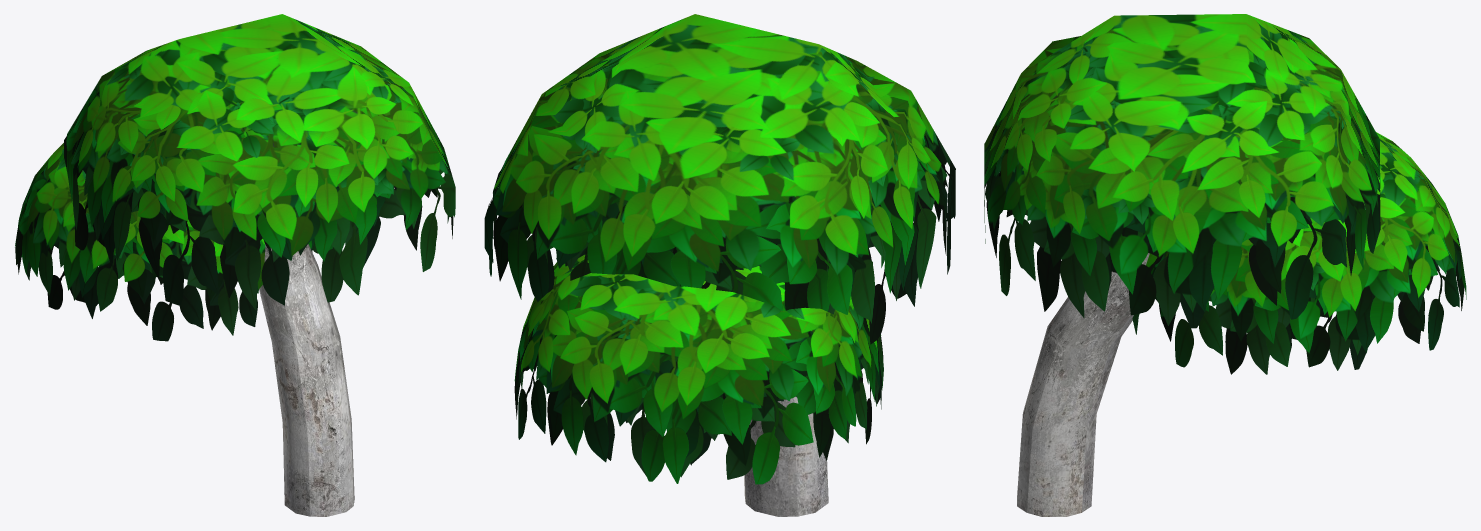
Rendered from treeparts.fbx.
3 renders of one model, left to right at view 1: azimuth 30°, elevation 25°; view 2: azimuth 150°, elevation 25°; view 3: azimuth 270°, elevation 25°, orthographic. The views are drawn at different scales.
Parts seen in each view (by area): view 1: lowpolyleaves, treebrancg, higherpolyleaves; view 2: lowpolyleaves, higherpolyleaves, treebrancg; view 3: lowpolyleaves, higherpolyleaves, treebrancg.
Part boxes in pixels (x1,y1,x2,y2): lowpolyleaves: (64,14,455,309); treebrancg: (259,244,354,516); higherpolyleaves: (15,143,342,341); lowpolyleaves: (484,14,955,344); higherpolyleaves: (514,254,883,484); treebrancg: (744,396,828,516); lowpolyleaves: (984,14,1380,328); higherpolyleaves: (1132,132,1466,374); treebrancg: (1017,253,1149,516).
Bounding box in the file's own units: 10.29 × 12.55 × 11.98.
Materials: 2 (2 with a texture image).
